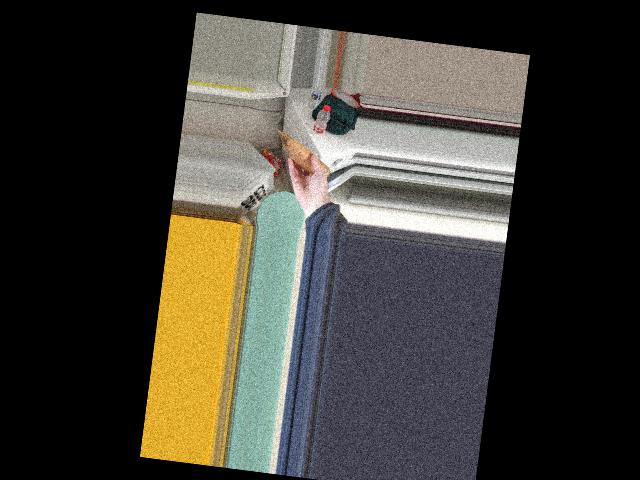sweet_potato: (291, 146, 331, 182)
